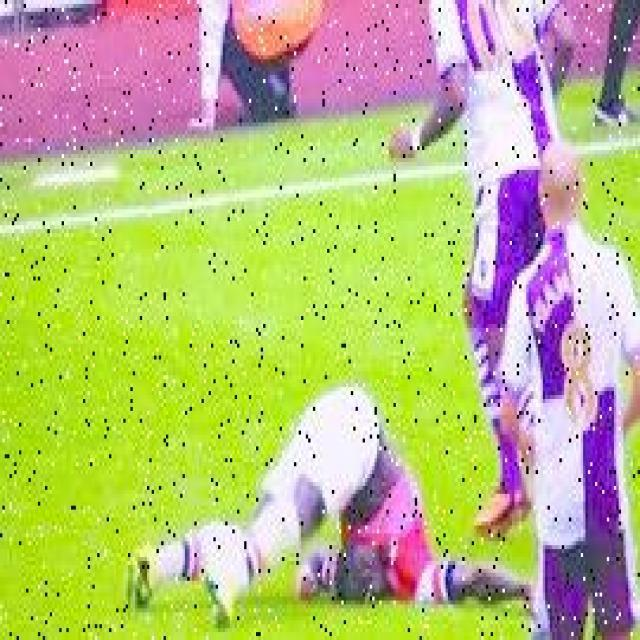fall: (135, 383, 479, 624)
